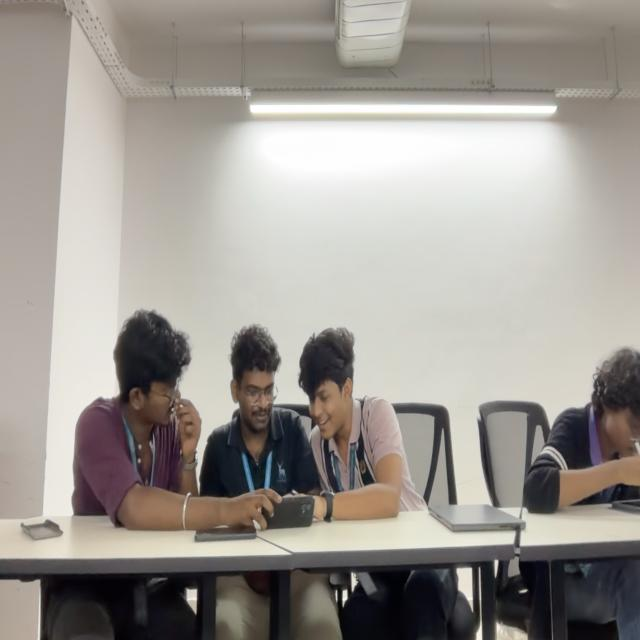Isolated: (524, 345, 640, 516)
socializing: (72, 310, 428, 530)
